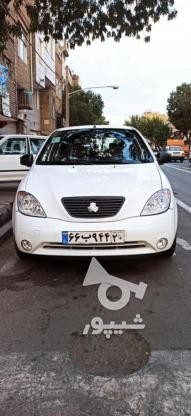car: (59, 229, 127, 244)
